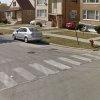Crosswalk: (3, 55, 93, 84)
